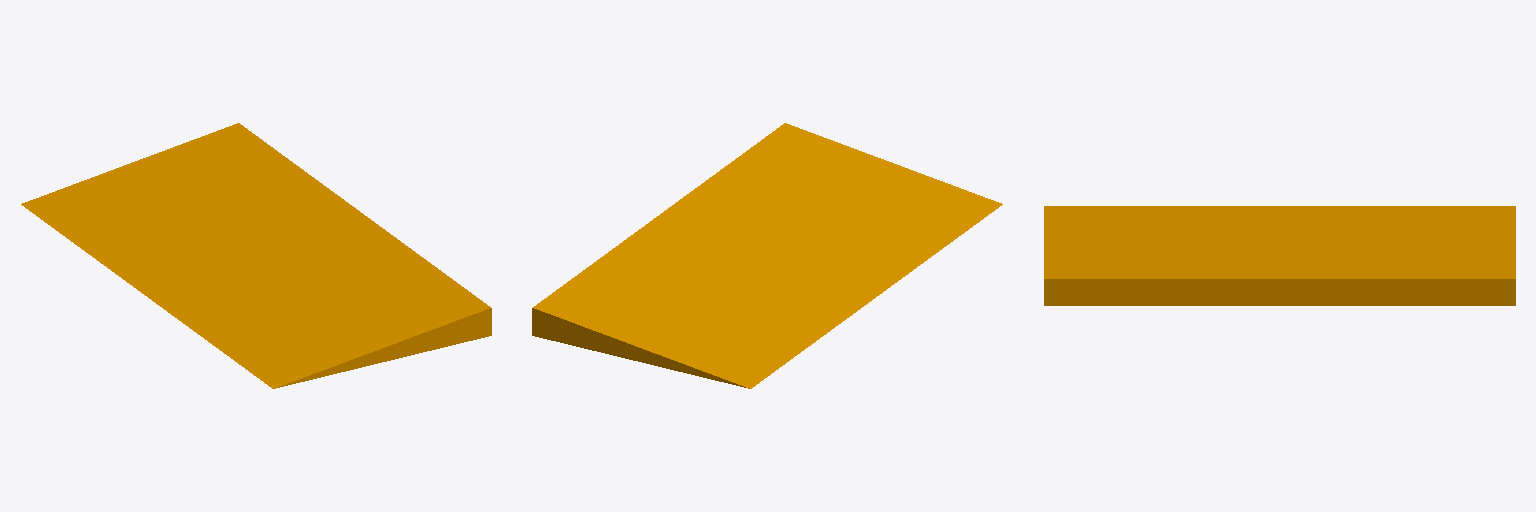
URDF robot description (wedge_7):
<?xml version="1.0" ?>
<robot name="wedge_7">
  <link name="wedge_7__link_2">
    <inertial>
      <mass value="1"/>
      <origin rpy="0      0     -1.5708" xyz="0 0 0"/>
      <inertia ixx="0.166667" ixy="0" ixz="0" iyy="0.166667" iyz="0" izz="0.166667"/>
    </inertial>
    <collision name="wedge_7__collision">
      <origin rpy="0      0     -1.5708" xyz="0 0 0"/>
      <geometry>
        <mesh filename="package://wedge_7/wedge_7.stl" scale="1 1 1"/>
      </geometry>
    </collision>
    <visual name="wedge_7__visual">
      <origin rpy="0      0     -1.5708" xyz="0 0 0"/>
      <geometry>
        <mesh filename="package://wedge_7/wedge_7.stl" scale="1 1 1"/>
      </geometry>
    </visual>
  </link>
</robot>

--- What the picture shows (computed from the rendered views, not written in the file) ---
3 views of the same robot in one strip: view 1: azimuth 30°, elevation 25°; view 2: azimuth 150°, elevation 25°; view 3: azimuth 270°, elevation 25° (orthographic).
Robot: wedge_7 — 1 links, 0 joints (none); root link wedge_7__link_2; default pose: every joint at zero.
Visible links, largest first — view 1: wedge_7__link_2; view 2: wedge_7__link_2; view 3: wedge_7__link_2.
Boxes of the visible links, box(x1,y1,x2,y2) form: wedge_7__link_2: box(21, 123, 491, 388); wedge_7__link_2: box(532, 123, 1002, 388); wedge_7__link_2: box(1044, 206, 1515, 305).
Bounding box of the posed robot: 1.5 × 3.01 × 0.1844 m (x, y, z).
Meshes: 1 distinct files referenced, 1 mesh visuals loaded (1 binary STL).